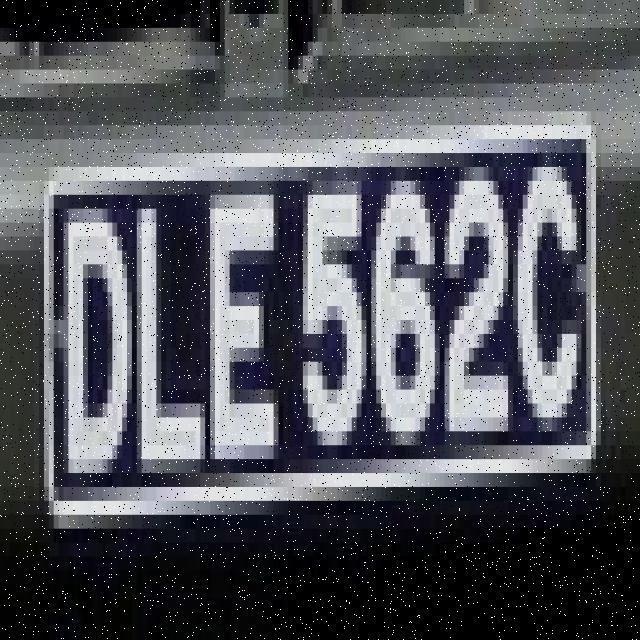LicensePlate: (29, 69, 618, 558)
